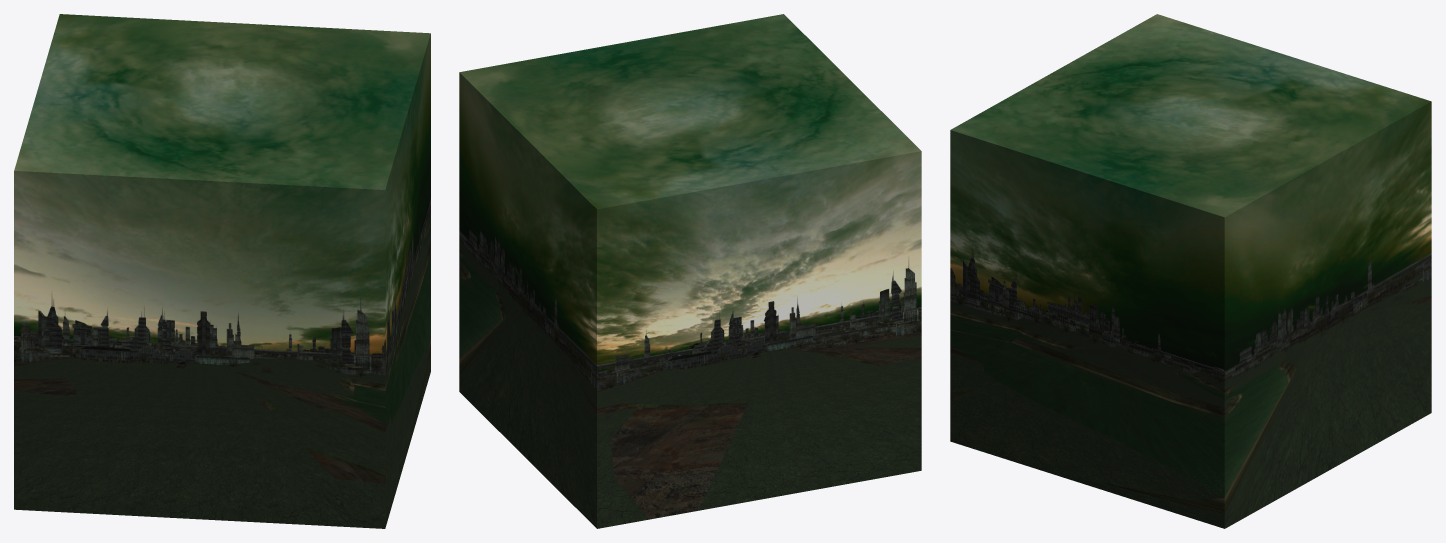
File: skybox.FBX
The picture shows the model from 3 angles, left to right: view 1: azimuth 30°, elevation 25°; view 2: azimuth 150°, elevation 25°; view 3: azimuth 270°, elevation 25°; orthographic projection. The views are drawn at different scales.
Parts seen in each view (by area): view 1: skybox; view 2: skybox; view 3: skybox.
Part boxes in pixels (x1,y1,x2,y2): skybox: (14, 14, 430, 528); skybox: (459, 14, 921, 528); skybox: (950, 14, 1431, 528).
Size of the model in its own units: 7583 by 7583 by 5414.
5 materials, 5 textured.
